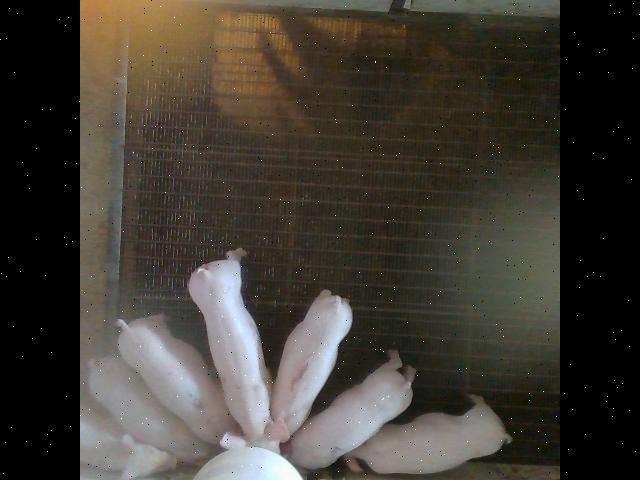pig-1: (271, 289, 352, 434)
